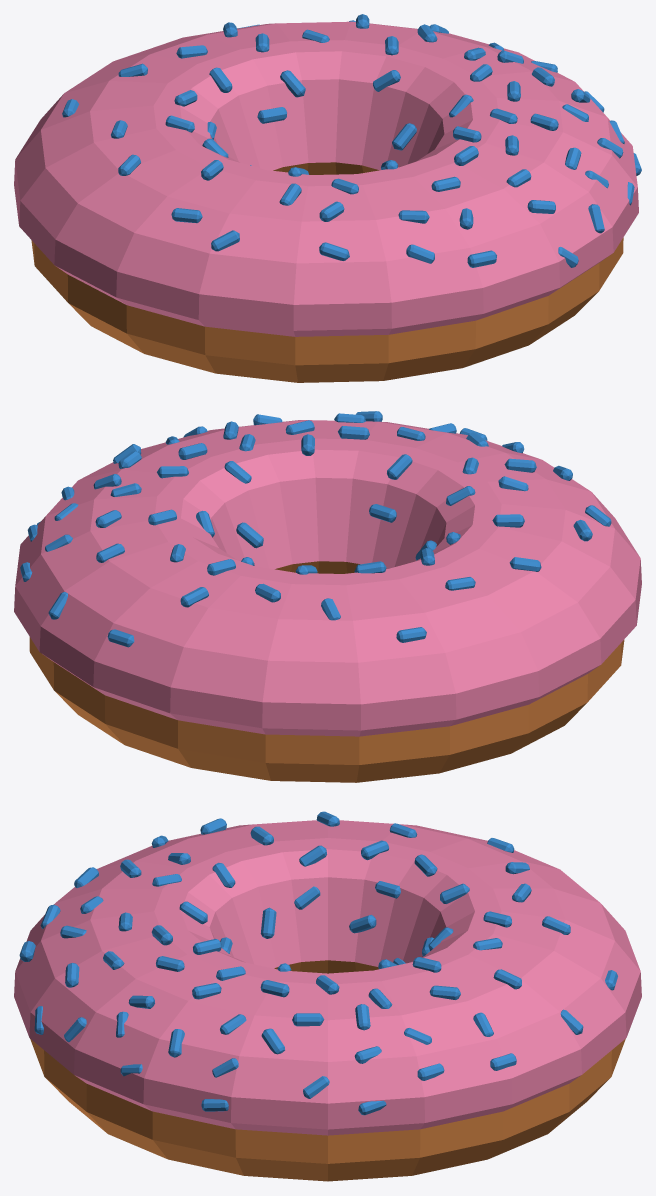
Rendered from donut-2-poly.glb.
3 renders of one model, top to bottom at view 1: azimuth 30°, elevation 25°; view 2: azimuth 150°, elevation 25°; view 3: azimuth 270°, elevation 25°, orthographic.
Parts seen in each view (by area): view 1: node-0; view 2: node-0; view 3: node-0.
Boxes of the visible parts, x1,y1,x2,y2 form: node-0: (14,14,641,382); node-0: (14,411,641,782); node-0: (14,811,641,1181).
Bounding box in the file's own units: 3.7 × 1.26 × 3.7.
